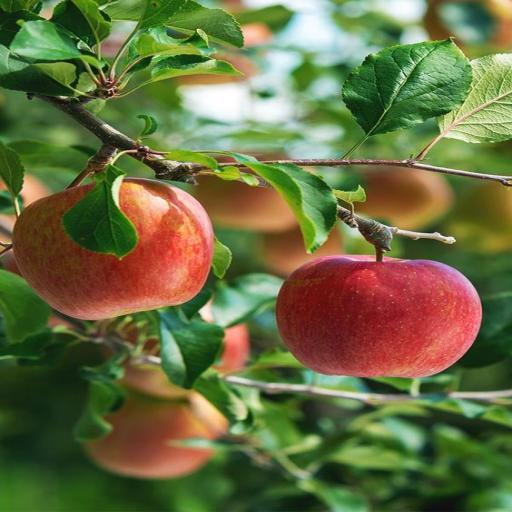apple: (13, 179, 213, 320), (276, 256, 482, 377)
